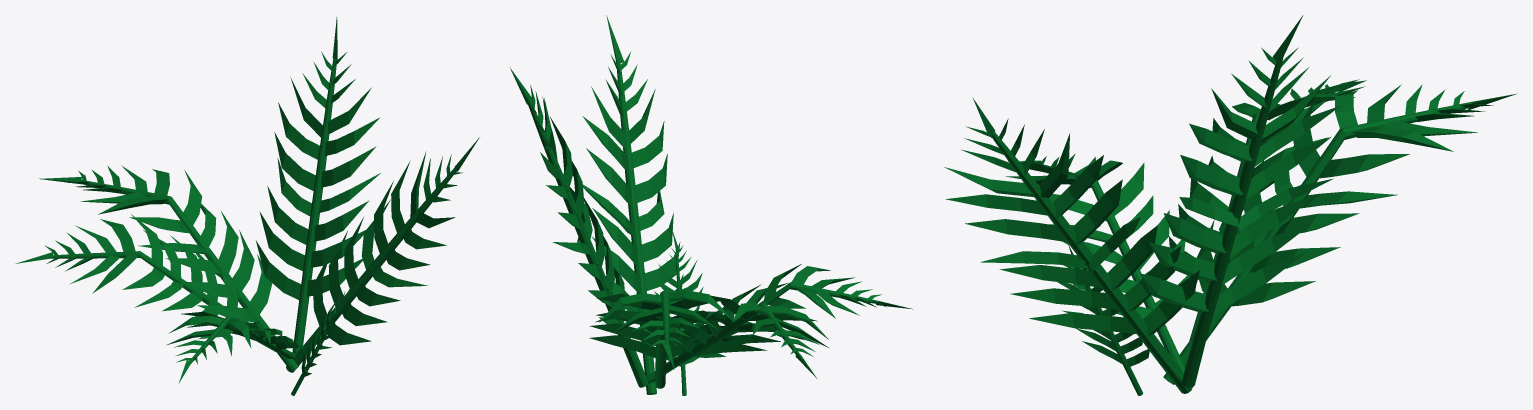
Rendered from Fern.fbx.
The picture shows the model from 3 angles, left to right: view 1: azimuth 30°, elevation 25°; view 2: azimuth 150°, elevation 25°; view 3: azimuth 270°, elevation 25°; orthographic projection. The views are drawn at different scales.
Parts seen in each view (by area): view 1: Fern; view 2: Fern; view 3: Fern.
Part boxes in pixels (<box>): Fern: <box>15,17,479,395</box>; Fern: <box>510,15,912,395</box>; Fern: <box>944,15,1517,395</box>.
Bounding box in the file's own units: 129 × 137 × 118.
